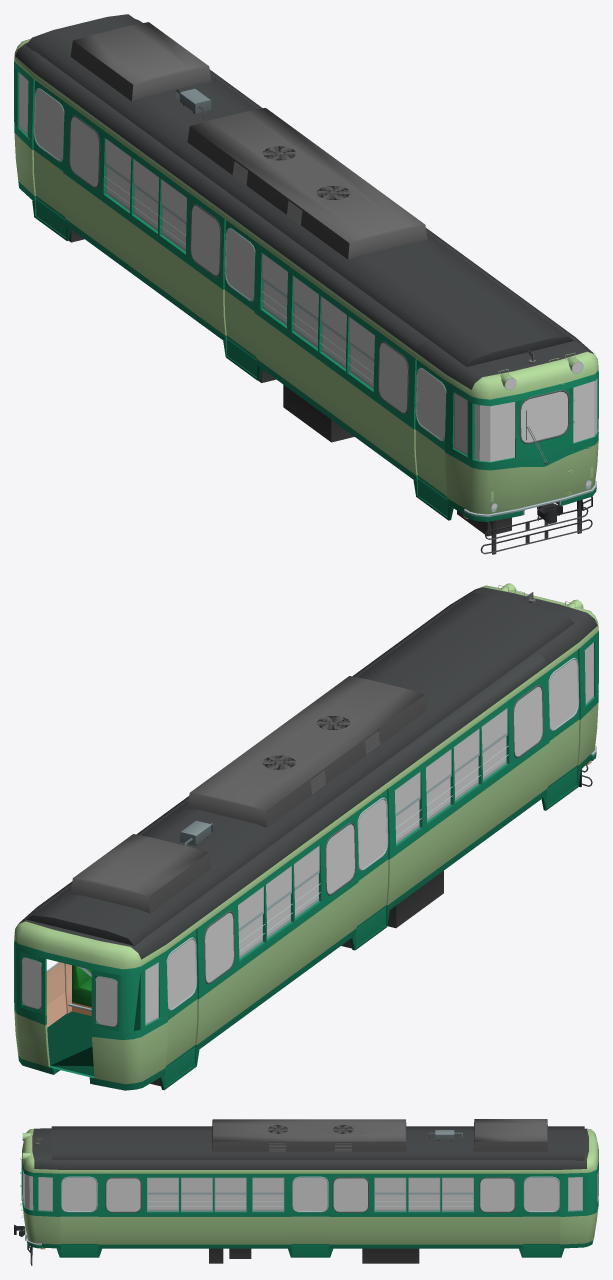
The picture shows the model from 3 angles, top to bottom: view 1: azimuth 30°, elevation 25°; view 2: azimuth 150°, elevation 25°; view 3: azimuth 270°, elevation 25°; orthographic projection. The views are drawn at different scales.
Parts seen in each view (by area): view 1: obj11; view 2: obj11; view 3: obj11.
Part boxes in pixels (x1=…): obj11: x1=14, y1=14, x2=598, y2=554; obj11: x1=14, y1=583, x2=598, y2=1090; obj11: x1=14, y1=1119, x2=598, y2=1265.
Bounding box in the file's own units: 5.85 × 8.25 × 35.8.
16 materials, 12 textured.
